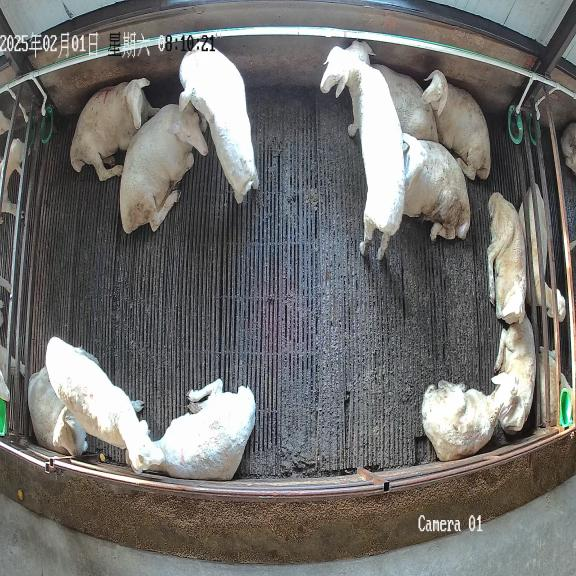lying: (46, 337, 163, 472), (120, 104, 208, 233), (144, 379, 256, 480), (346, 40, 439, 142), (70, 78, 159, 181), (421, 372, 518, 461), (423, 70, 490, 180), (402, 133, 470, 241), (28, 367, 88, 456), (487, 192, 526, 324), (494, 314, 536, 433)
stand: (320, 47, 405, 259), (179, 40, 259, 203)
